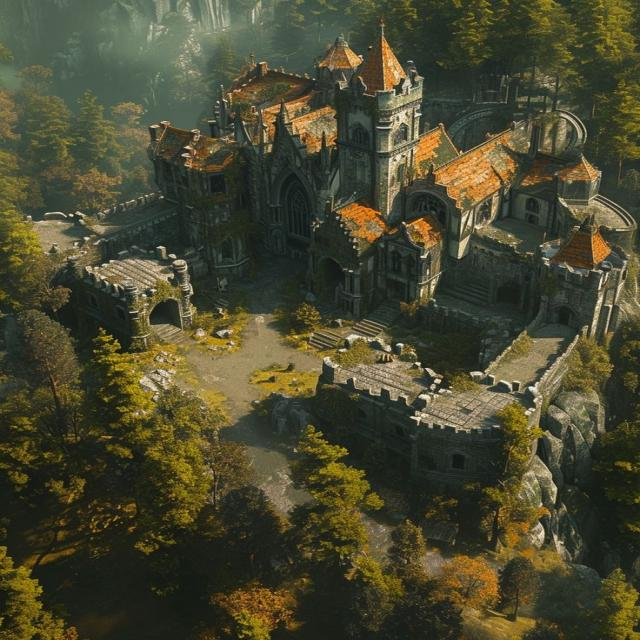castle: (32, 7, 639, 480)
